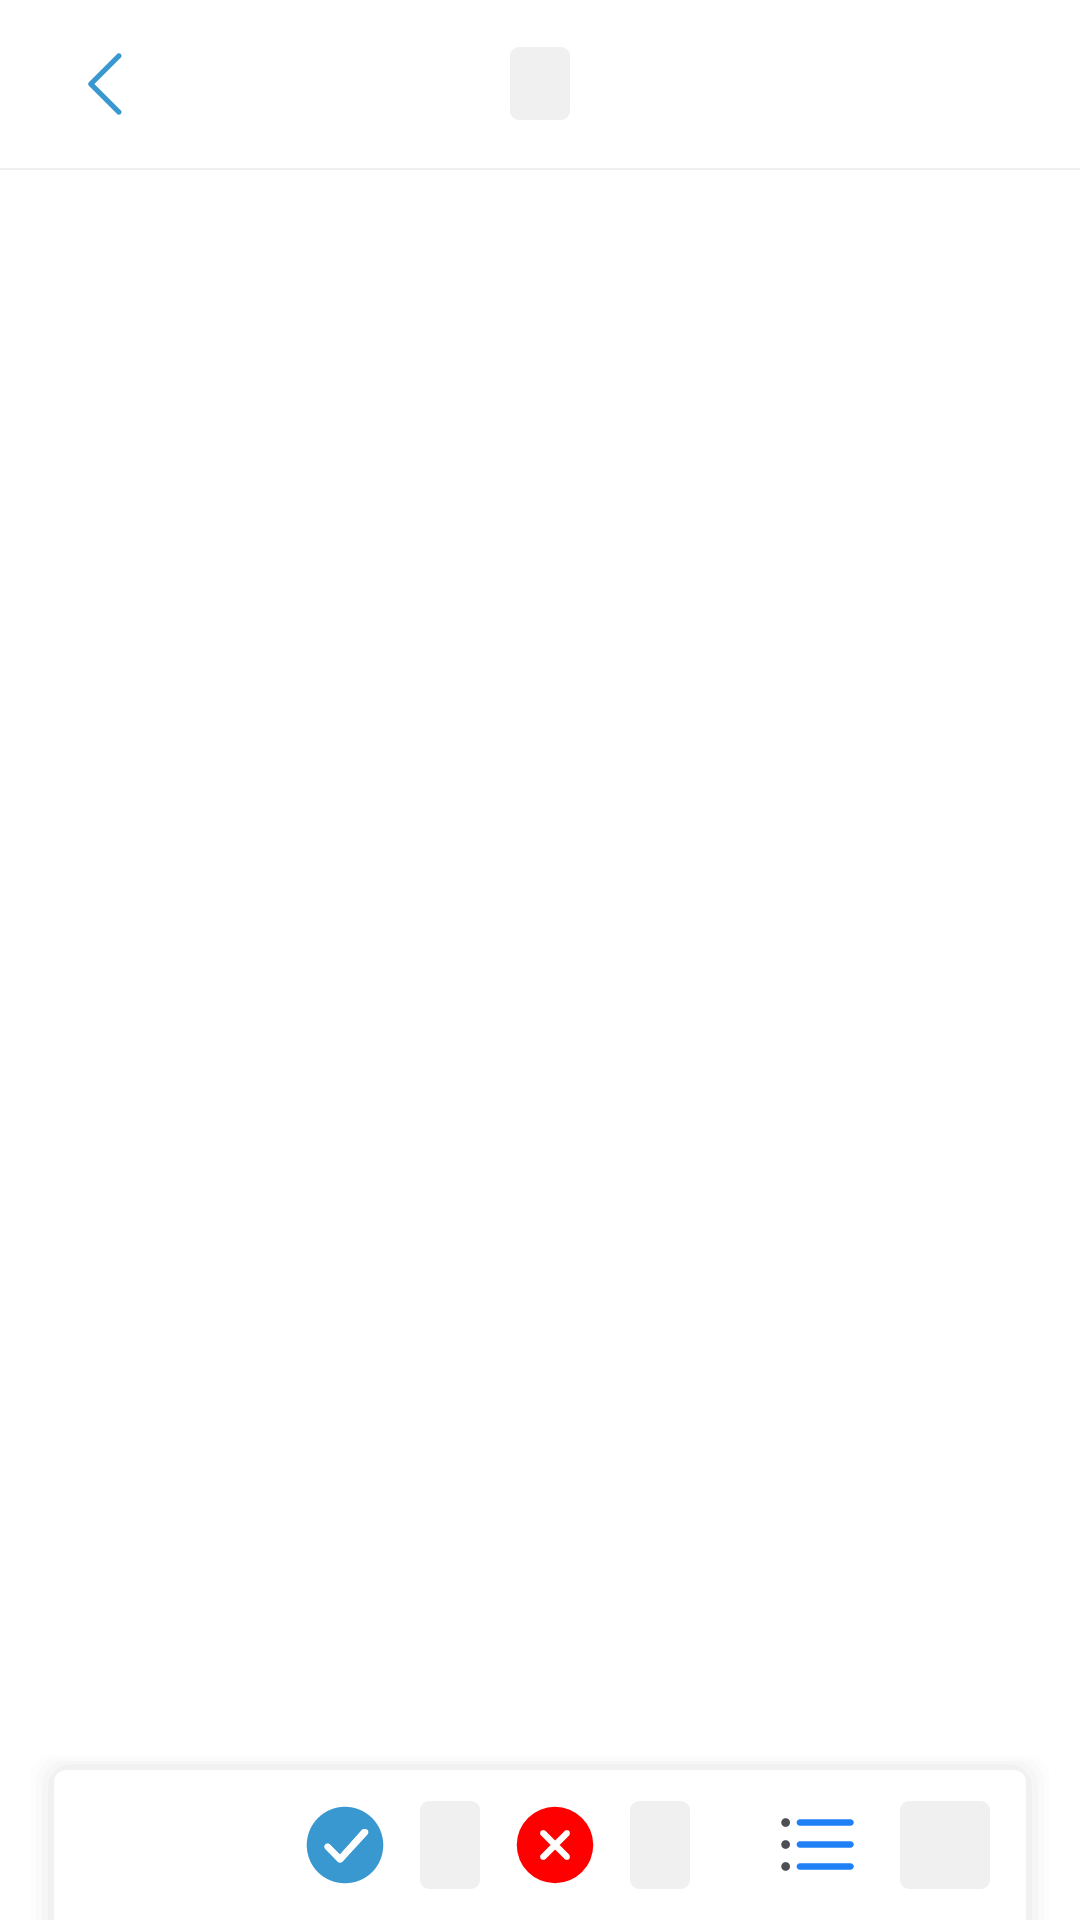

Named icons in this screenshot (1080px x 1920px) and their bounding boxes, bbox(x1, y1, x2, y2):
back: bbox(88, 53, 122, 115)
correct: bbox(306, 1806, 384, 1884)
list: bbox(781, 1818, 854, 1871)
wrong: bbox(516, 1806, 594, 1884)
